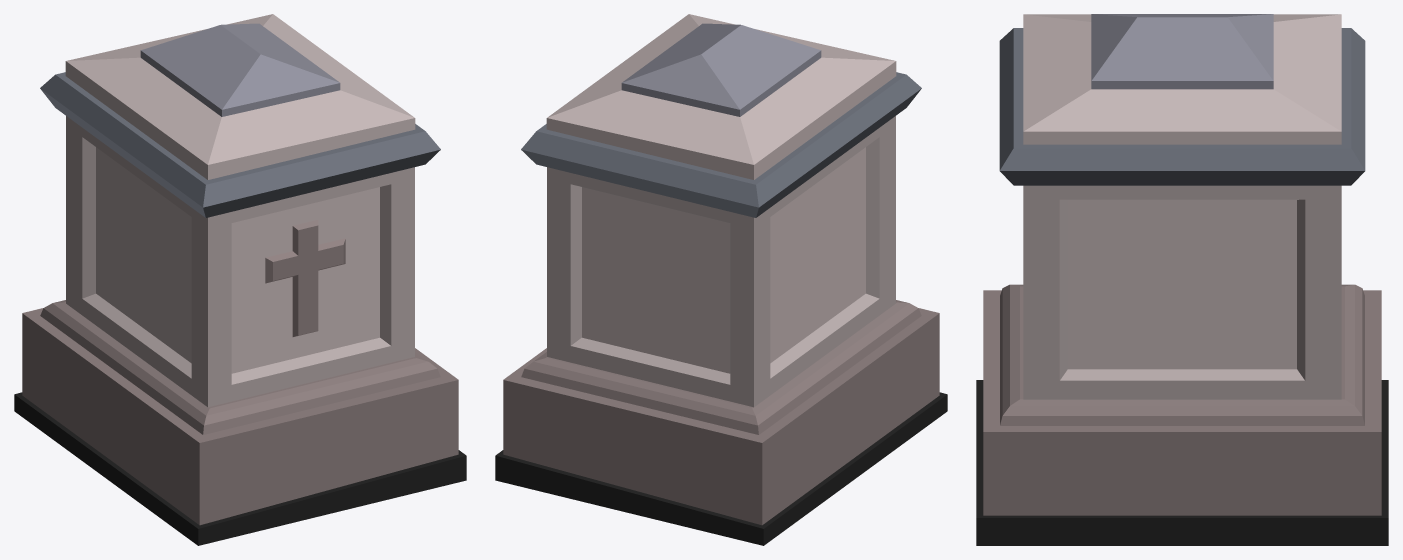
File: HWN20_Grave_27.glb
3 views of the same model, side by side, from view 1: azimuth 30°, elevation 25°; view 2: azimuth 150°, elevation 25°; view 3: azimuth 270°, elevation 25° (orthographic). The views are drawn at different scales.
Parts seen in each view (by area): view 1: HWN20_Grave_27; view 2: HWN20_Grave_27; view 3: HWN20_Grave_27.
Part boxes in pixels (x1=…): HWN20_Grave_27: x1=14, y1=14, x2=466, y2=545; HWN20_Grave_27: x1=495, y1=14, x2=947, y2=545; HWN20_Grave_27: x1=976, y1=14, x2=1388, y2=545.
Size of what is drawn, in the model's own units: 1.14 by 1.65 by 1.36.
1 material, 1 textured.
